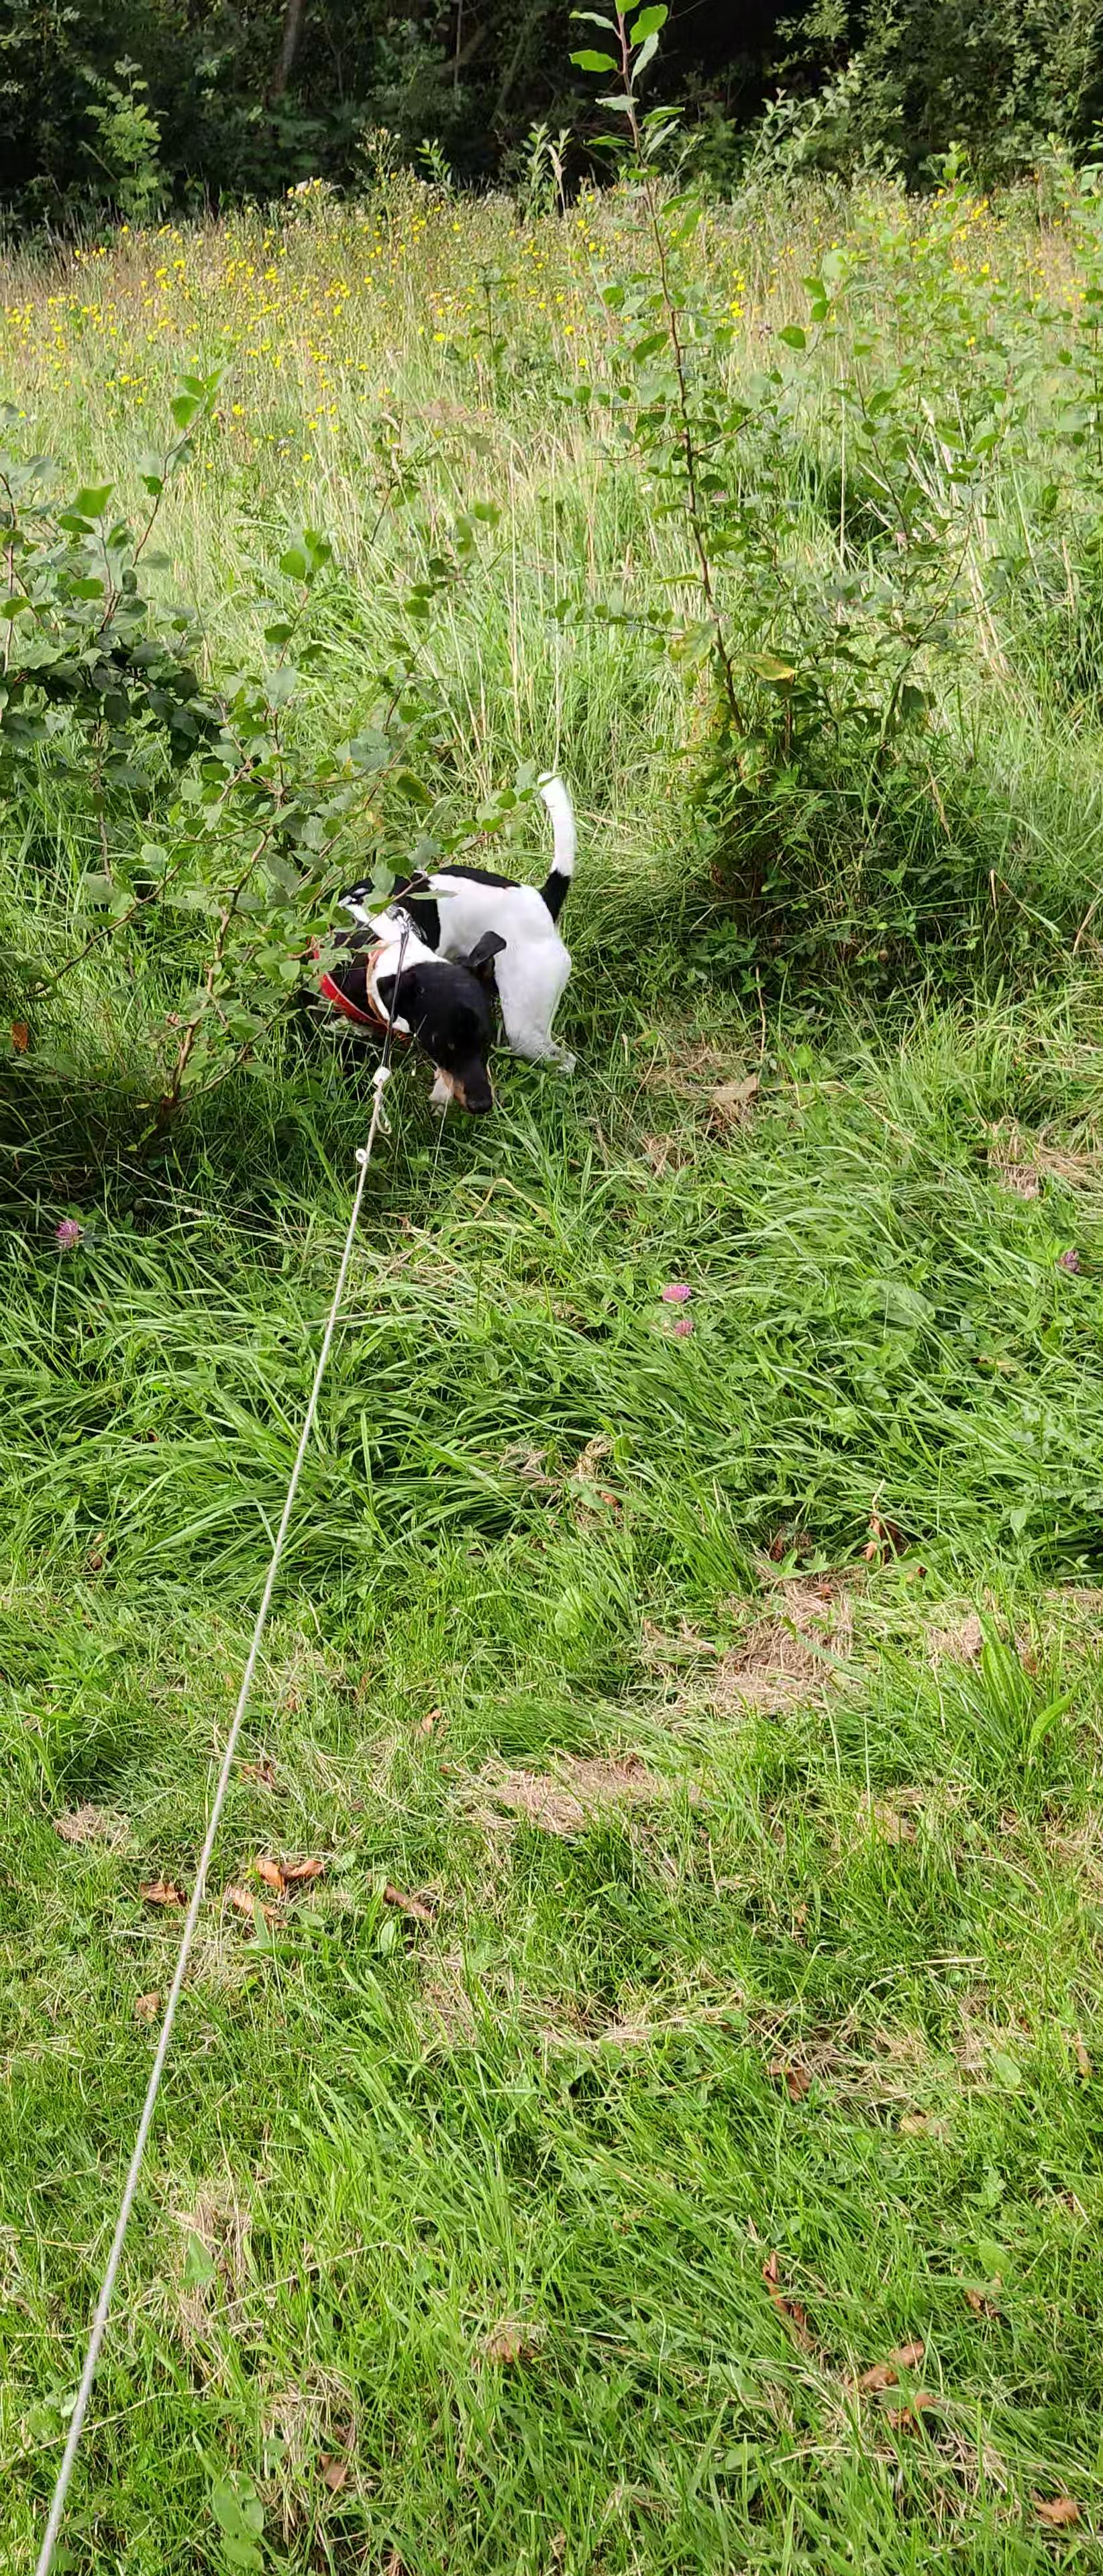Dog: (270, 759, 590, 1124)
